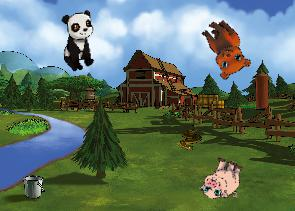bear: (189, 14, 257, 84)
panda: (60, 10, 97, 72)
pig: (197, 153, 247, 205)
